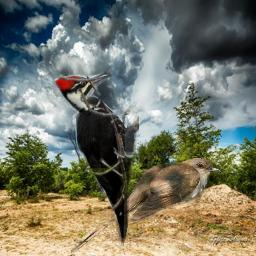Cuckoo: (71, 156, 223, 254)
Woodpecker: (54, 70, 139, 253)
